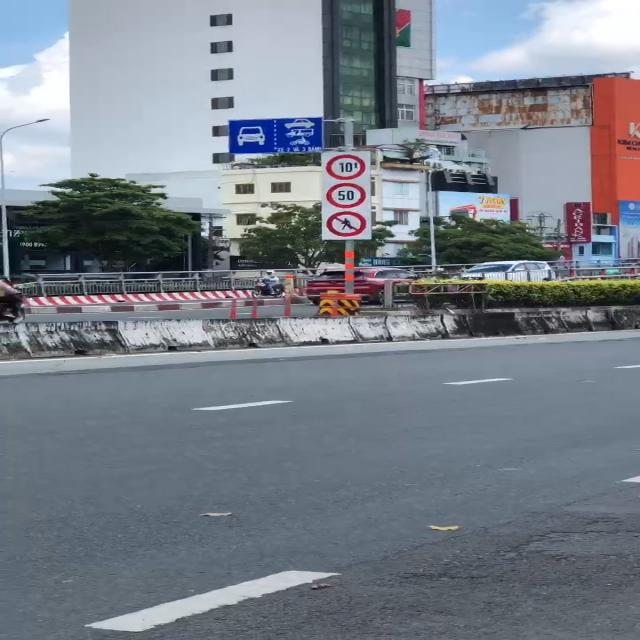Bien bao cam nguoi di bo: (325, 210, 369, 240)
Bien bao toc do toi da cho phep: (324, 182, 369, 210)
